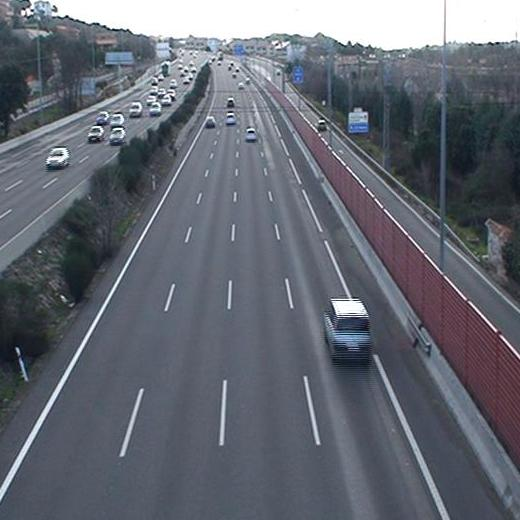car: (319, 294, 379, 367), (243, 127, 258, 145), (225, 112, 238, 127), (205, 114, 218, 129), (225, 95, 238, 110)
